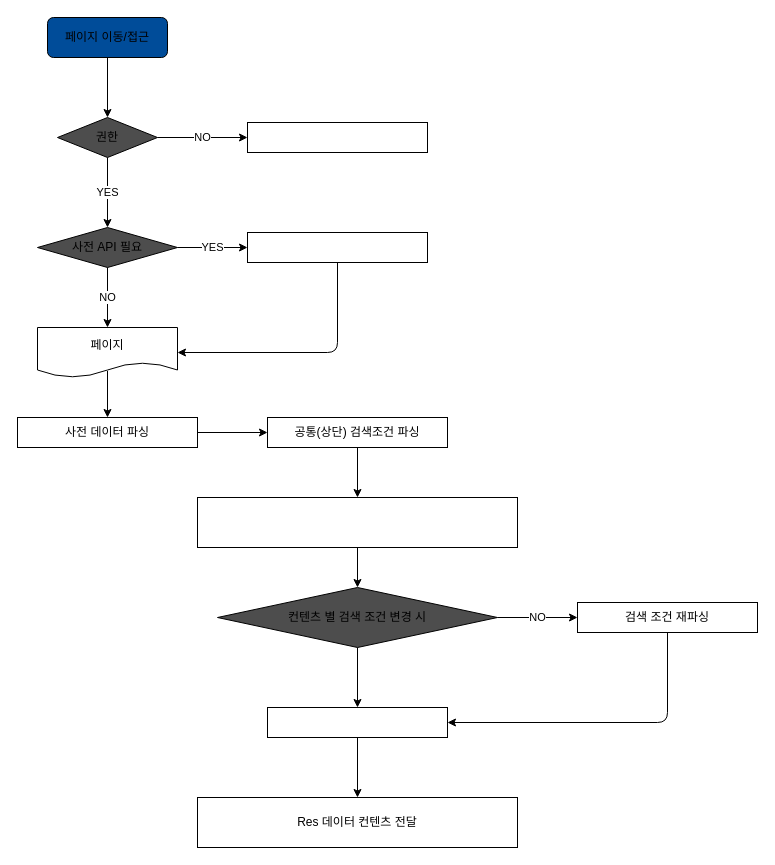
This 775x865 diagram has some shape labels left out. Here are the shapes that lost their labels. From the top down, the centre of each, then its label:
the point at 337,137: 에러 프로세스
the point at 337,247: 사전 데이터 API
the point at 357,522: 컨텐츠(컴포넌트)별 공통 검색 조건 전달
the point at 357,722: API 요청
